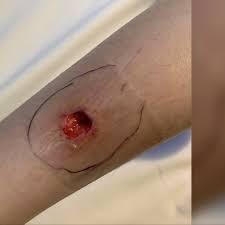Spider: (12, 71, 133, 189)
